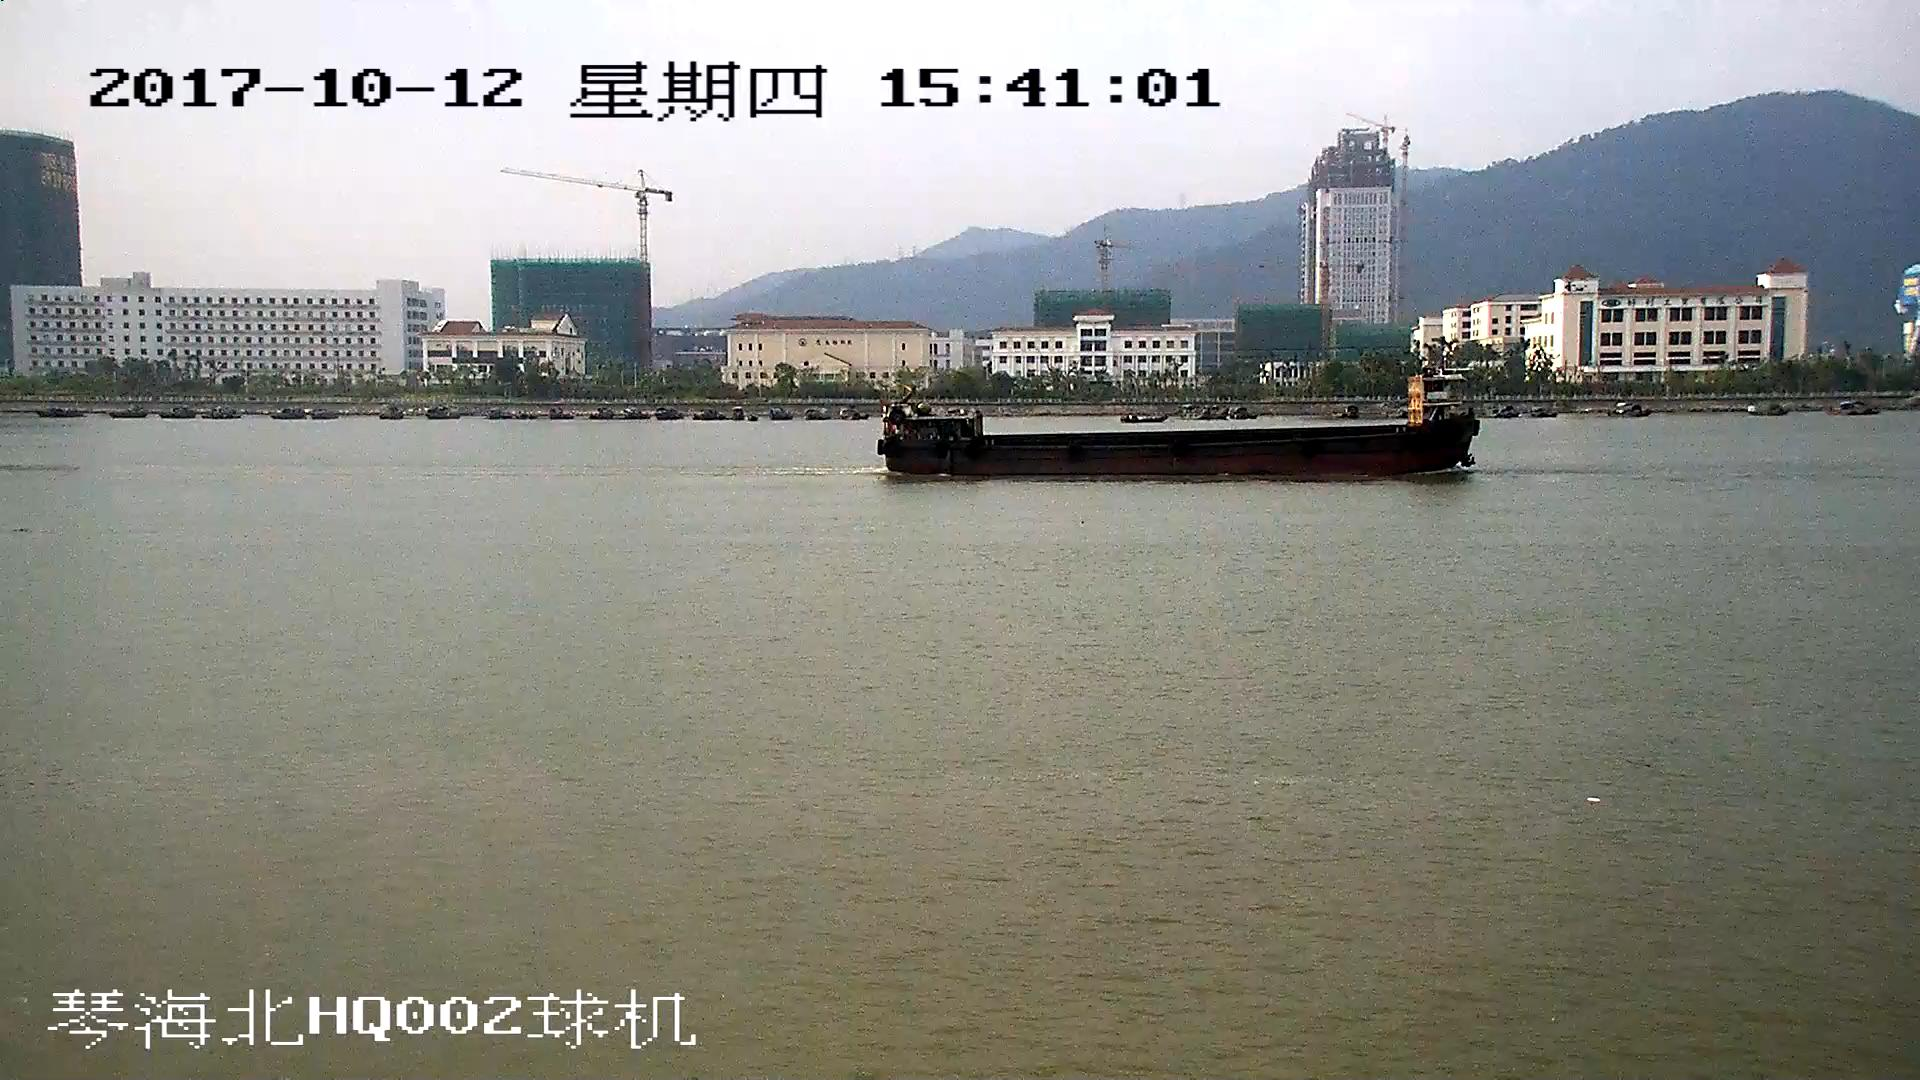general cargo ship: (891, 369, 1477, 481)
